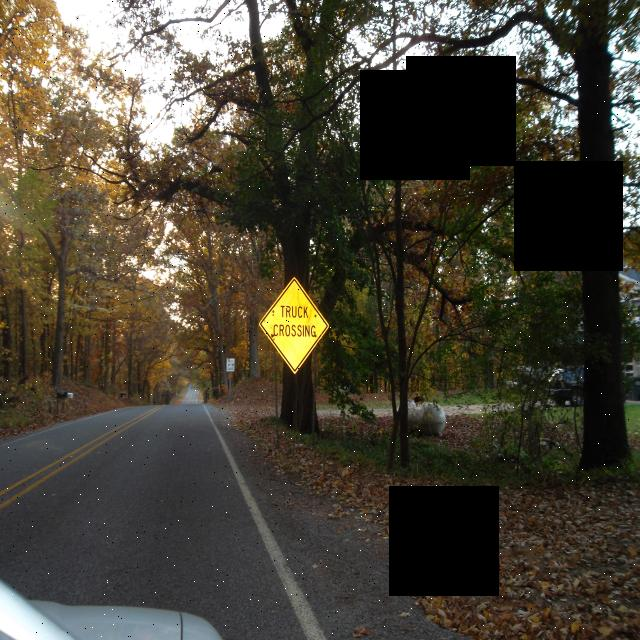warning: (259, 271, 330, 375)
